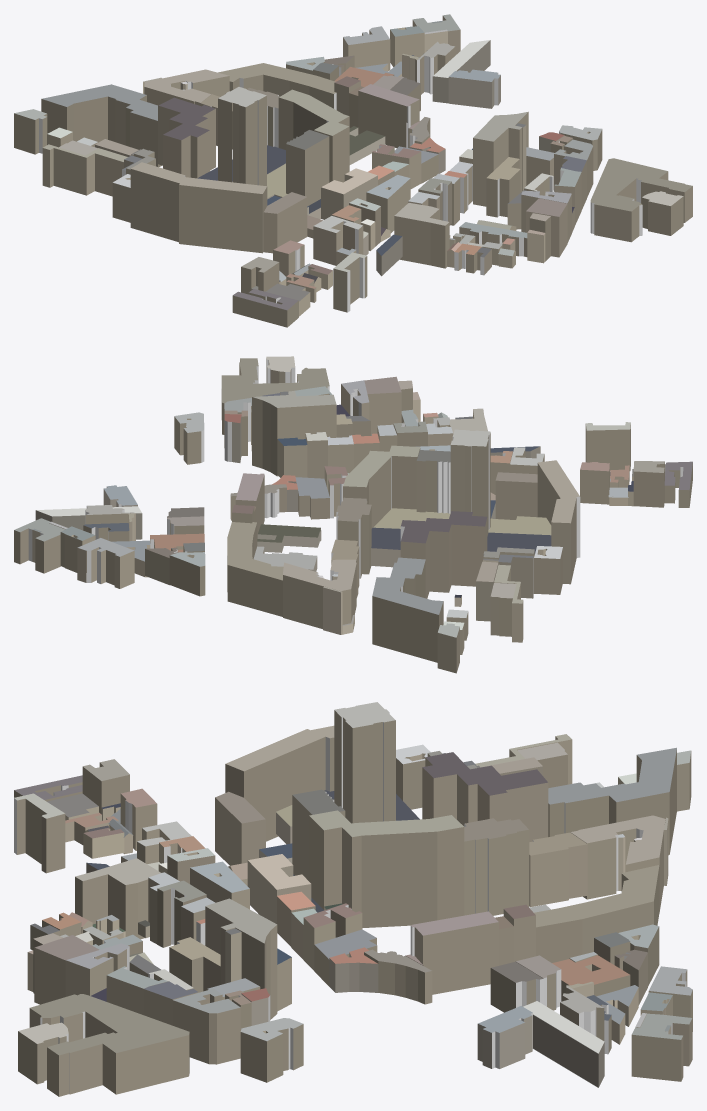
3 renders of one model, top to bottom at view 1: azimuth 30°, elevation 25°; view 2: azimuth 150°, elevation 25°; view 3: azimuth 270°, elevation 25°, orthographic. The views are drawn at different scales.
Visible parts, largest first — view 1: tuile; view 2: tuile; view 3: tuile.
Part boxes in pixels (x1,y1,x2,y2): tuile: (14, 14, 692, 327); tuile: (14, 356, 692, 673); tuile: (14, 702, 692, 1096).
Bounding box in the file's own units: 281 × 69.09 × 265.
